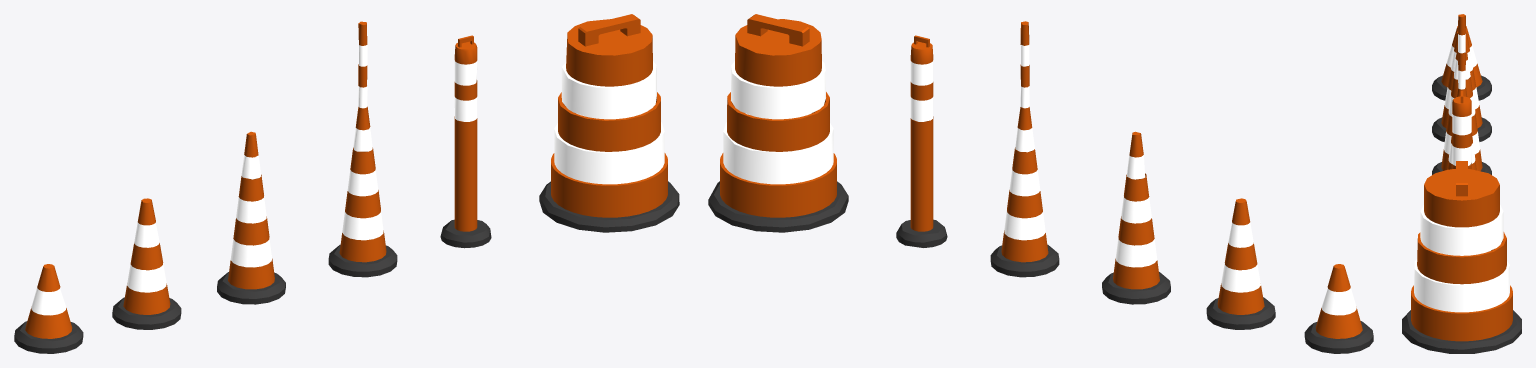
The model's file is z_cones.glb.
3 renders of one model, left to right at view 1: azimuth 30°, elevation 25°; view 2: azimuth 150°, elevation 25°; view 3: azimuth 270°, elevation 25°, orthographic. The views are drawn at different scales.
Parts seen in each view (by area): view 1: Object_3, Object_4, Object_2; view 2: Object_3, Object_4, Object_2; view 3: Object_3, Object_4, Object_2.
Boxes of the visible parts, x1,y1,x2,y2 form: Object_3: [25, 14, 667, 338]; Object_4: [31, 44, 664, 315]; Object_2: [14, 181, 679, 353]; Object_3: [720, 14, 1362, 338]; Object_4: [723, 45, 1356, 315]; Object_2: [708, 181, 1373, 353]; Object_3: [1411, 14, 1512, 341]; Object_4: [1414, 34, 1509, 312]; Object_2: [1402, 75, 1521, 353].
Size of the model in its own units: 4.16 by 1.46 by 0.762.
